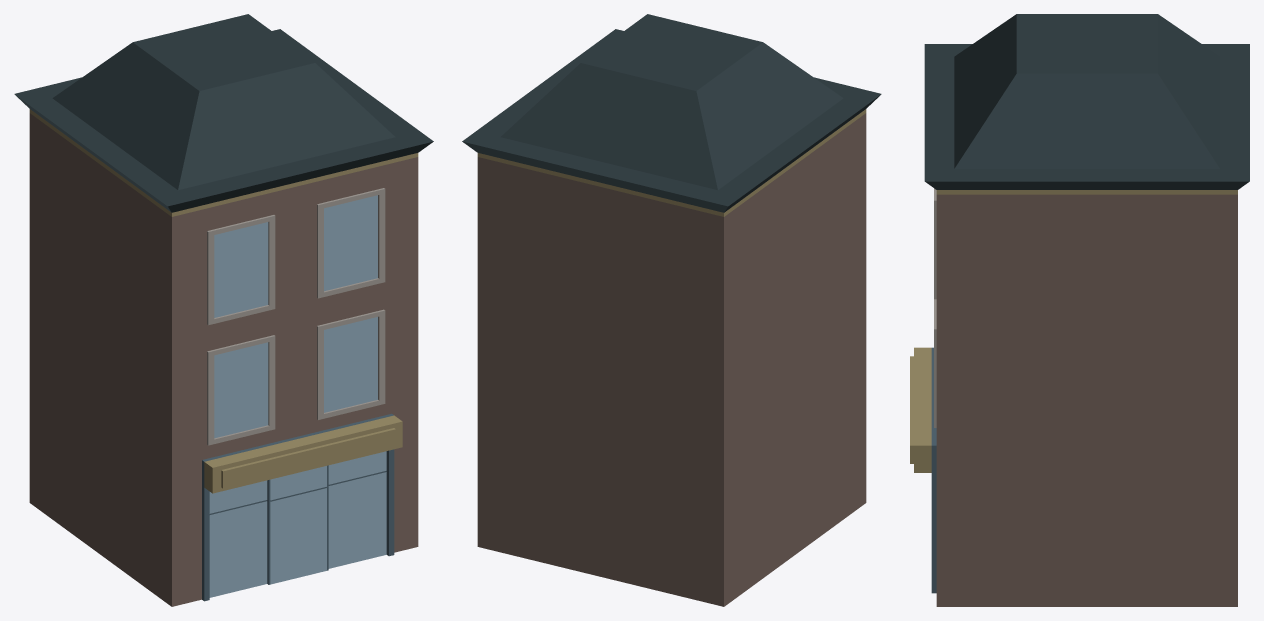
File: House3Level2.fbx
The picture shows the model from 3 angles, left to right: view 1: azimuth 30°, elevation 25°; view 2: azimuth 150°, elevation 25°; view 3: azimuth 270°, elevation 25°; orthographic projection. The views are drawn at different scales.
Parts seen in each view (by area): view 1: House3Lvl2.001; view 2: House3Lvl2.001; view 3: House3Lvl2.001.
Part boxes in pixels (x1,y1,x2,y2): House3Lvl2.001: [14, 14, 433, 606]; House3Lvl2.001: [462, 14, 881, 606]; House3Lvl2.001: [910, 14, 1249, 606].
Size of the model in its own units: 89.13 by 151 by 93.14.
